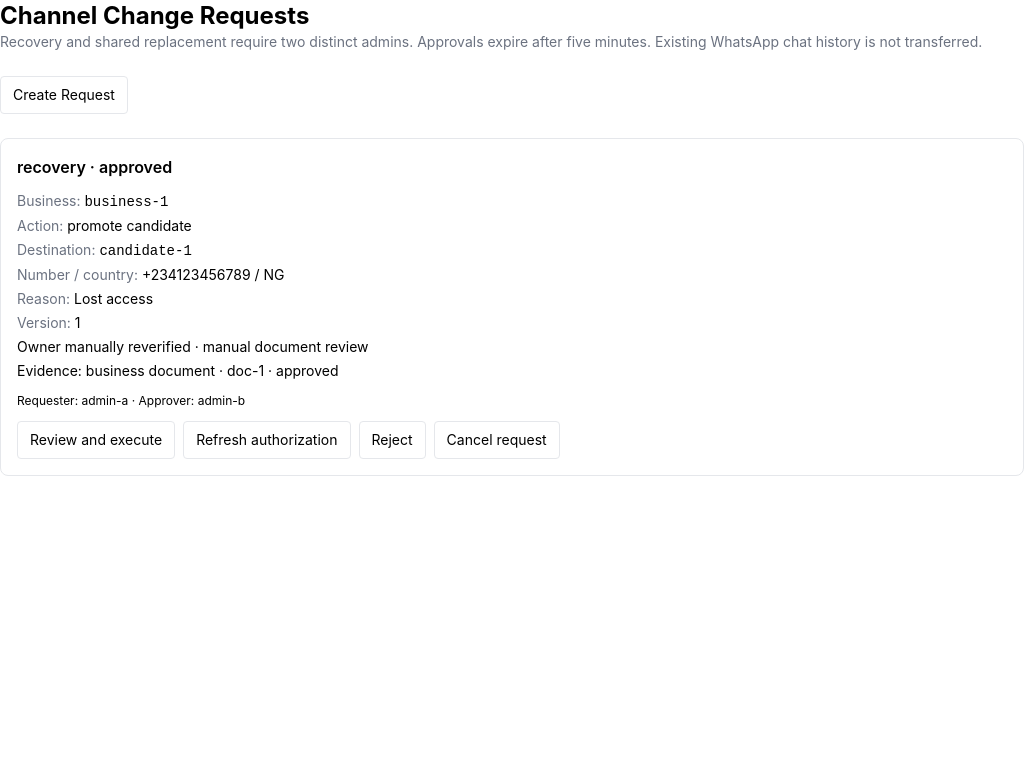
it: channel changes mounted UI and actual step-up hook › allows requester execution after a distinct second admin approved
Click the button "Review and execute": click(96, 440) [17,421,175,459]
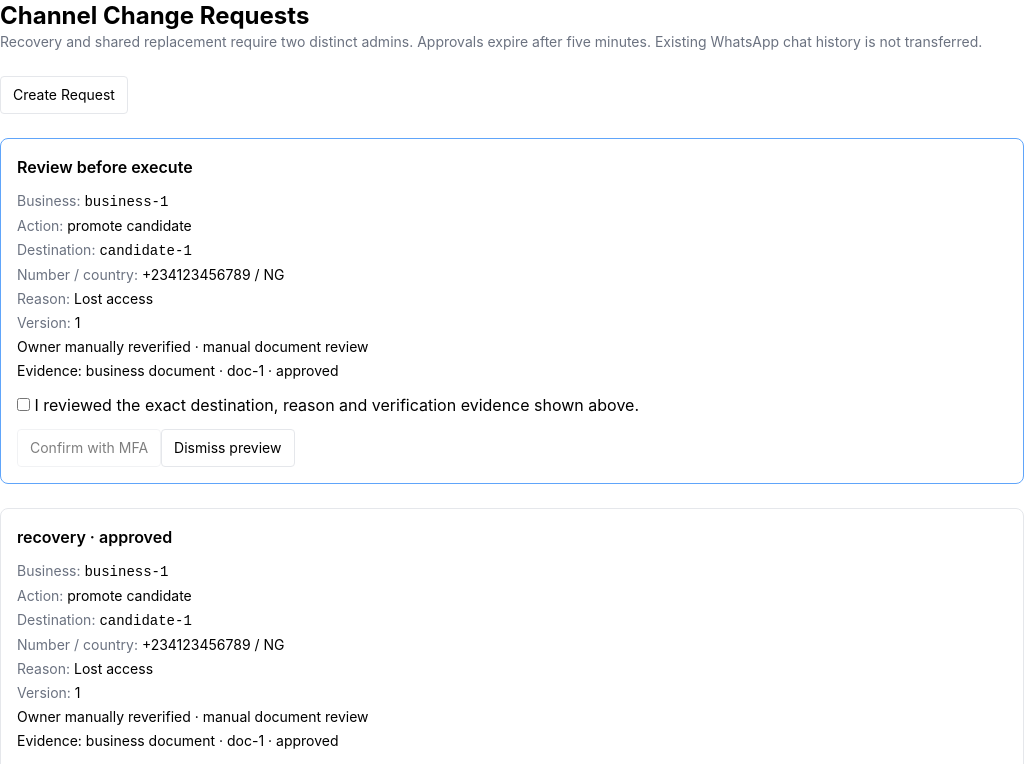
Expected: the text "candidate-1" below "Review before" is shown, [99,243,192,259]
Now the button "Confirm with MFA" is disabled, box [17,429,161,467]
Click the checkbox: click(24, 404) [17,398,30,411]
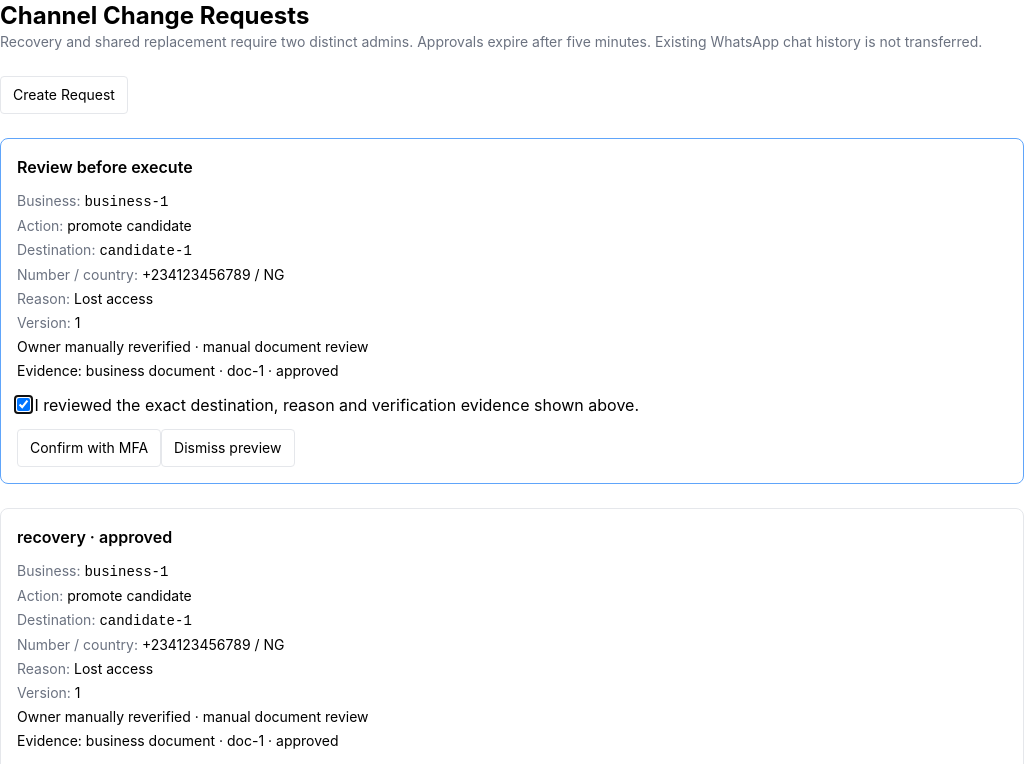
Click the button "Confirm with MFA": click(89, 448) [17,429,161,467]
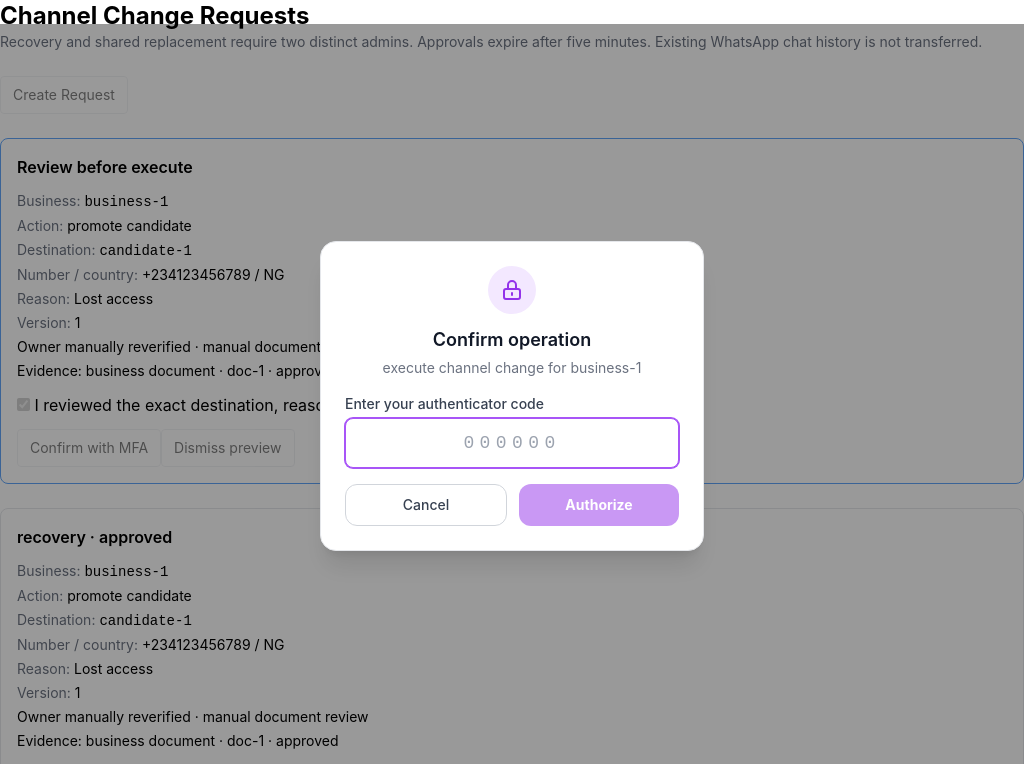
Now the field with placeholder "000000" is shown
In the field with placeholder "000000": (512, 443) [345,418,679,468], type "123456"
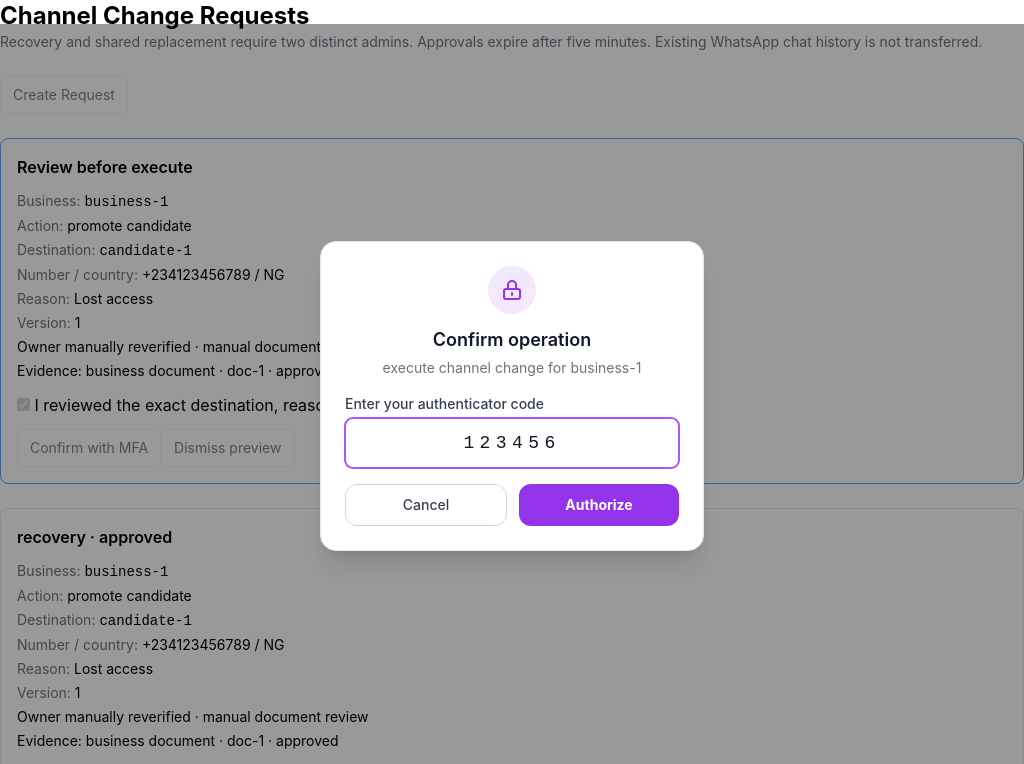
Click the button "Authorize": click(599, 505) [519,484,679,526]
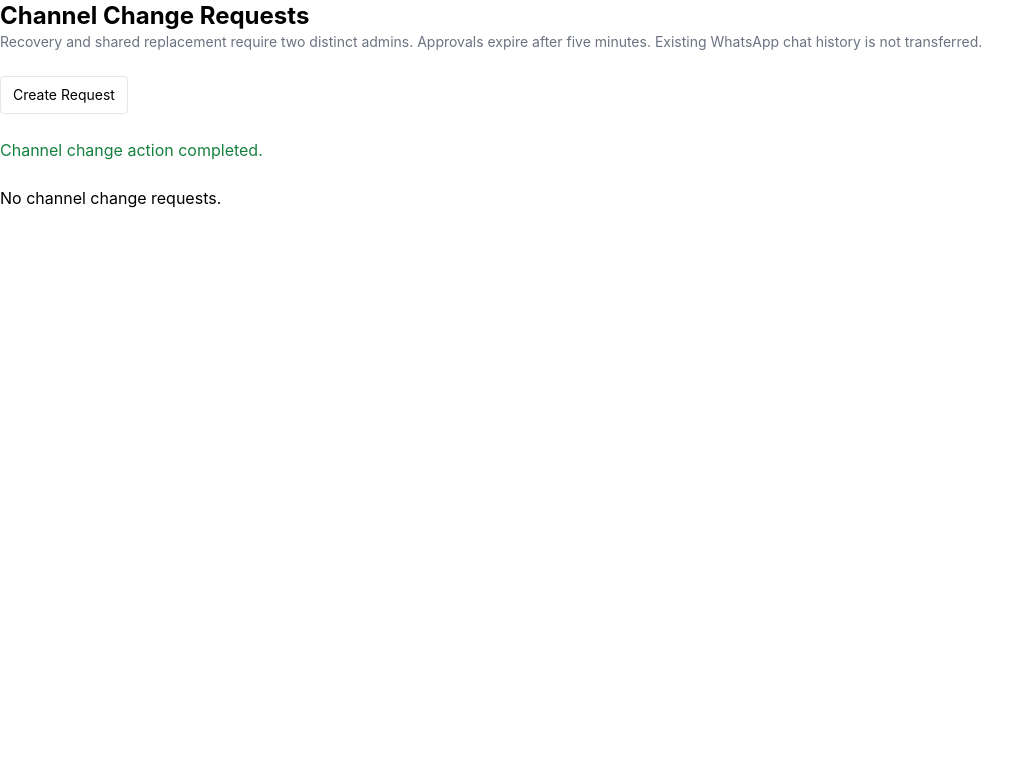
Now the text "Channel change action completed." is shown, box [0,140,263,160]
